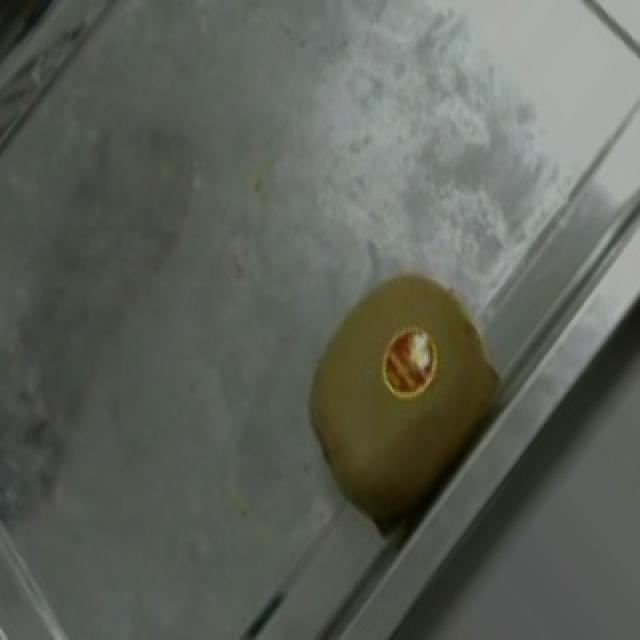Fruit: (258, 236, 542, 553)
